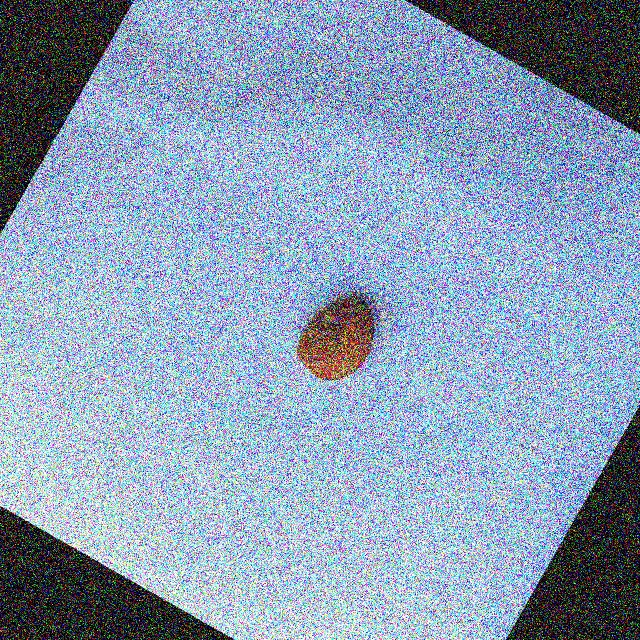grade3: (280, 276, 394, 398)
